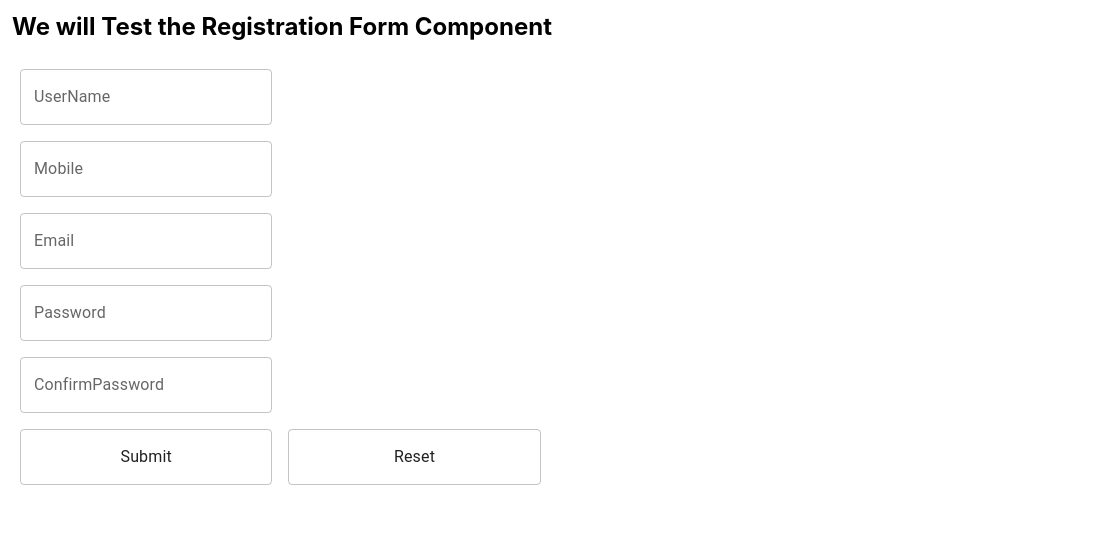
it: Test the Registration Component › should display alert if Error
Type "pavan" into the field labelled "Email" at (146, 241), box top-left (20, 213), bottom-right (272, 269)
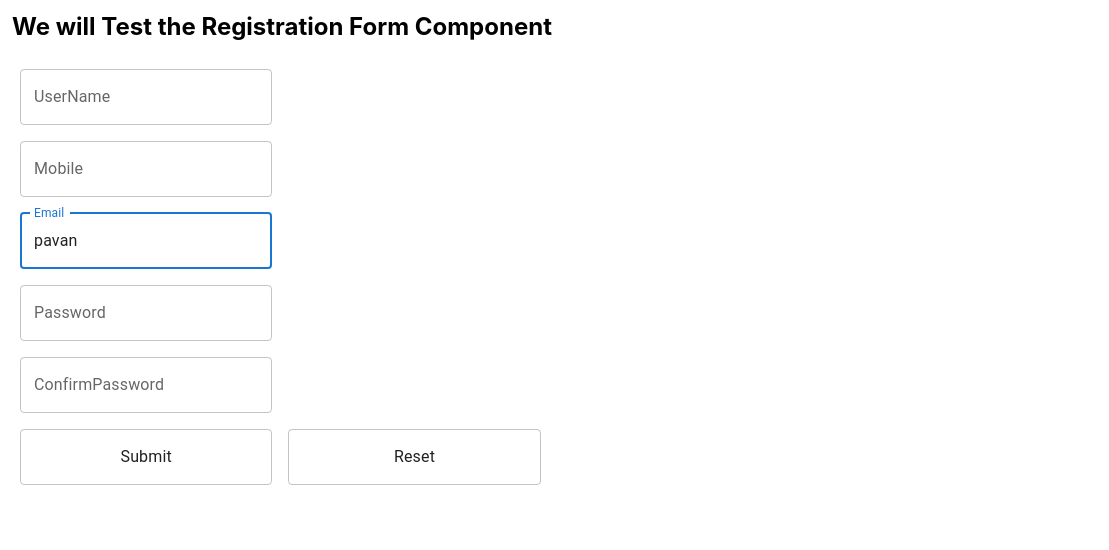
Type "1123456" into the password field labelled "Password" at (146, 313), box top-left (20, 285), bottom-right (272, 341)
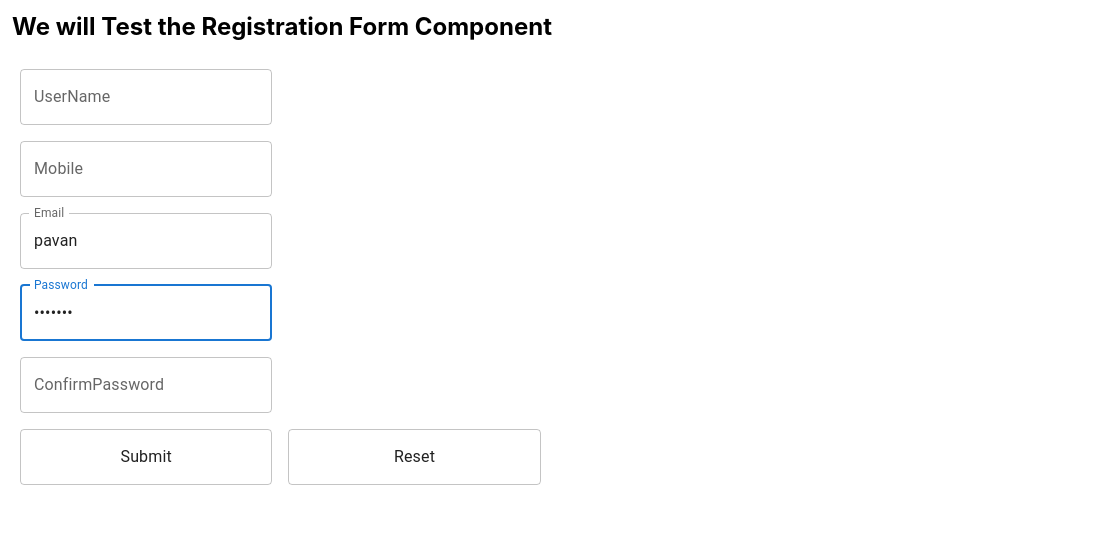
Type "1123456" into the password field labelled "ConfirmPassword" at (146, 385), box top-left (20, 357), bottom-right (272, 413)
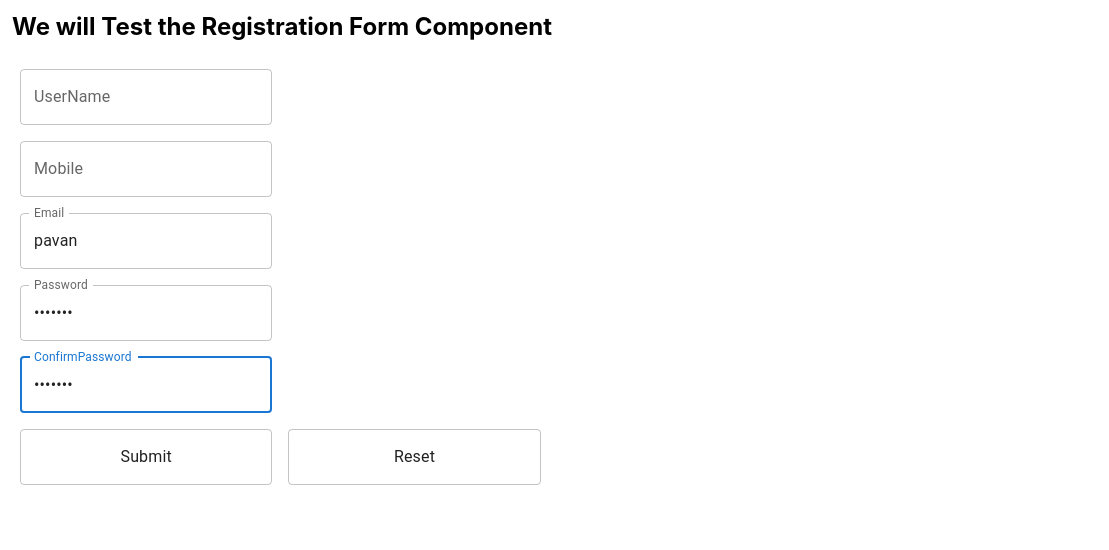
Click the 1st button at (146, 457), box top-left (20, 429), bottom-right (272, 485)
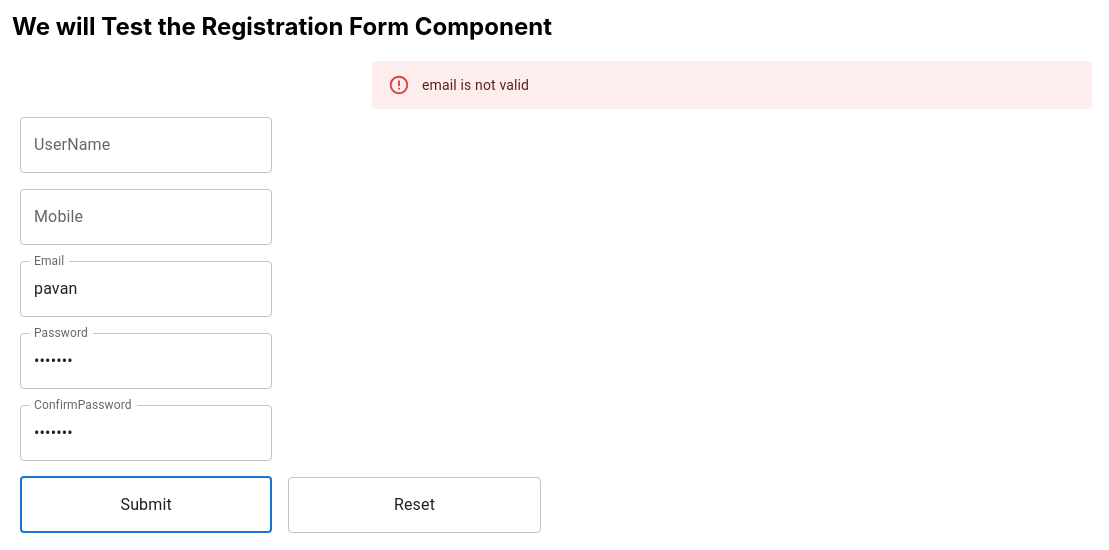
expect the text "email is not valid" is shown: met, box top-left (422, 77), bottom-right (529, 93)
